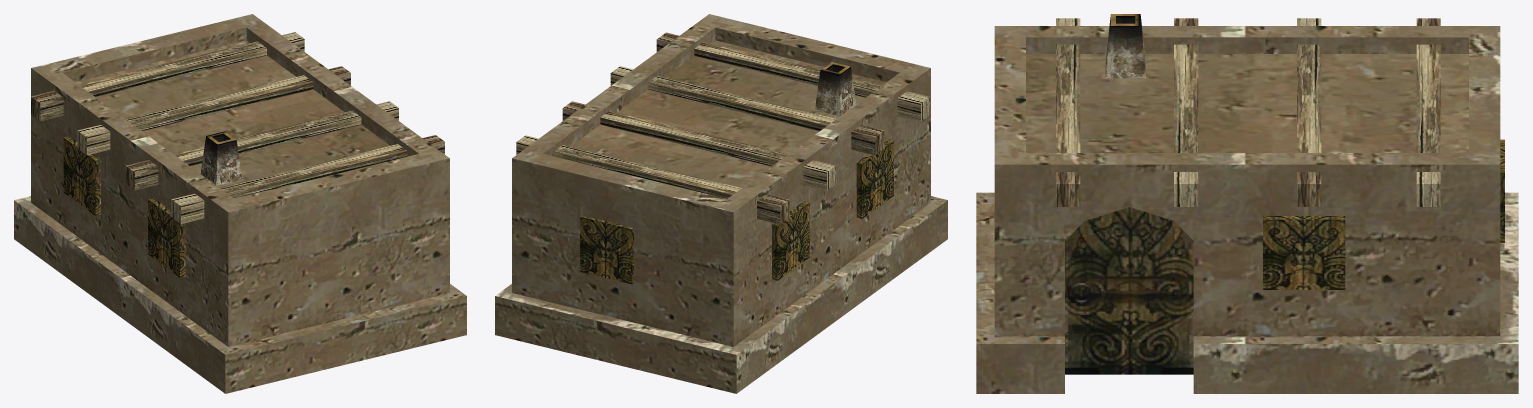
The picture shows the model from 3 angles, left to right: view 1: azimuth 30°, elevation 25°; view 2: azimuth 150°, elevation 25°; view 3: azimuth 270°, elevation 25°; orthographic projection. The views are drawn at different scales.
Parts seen in each view (by area): view 1: House01; view 2: House01; view 3: House01.
Part boxes in pixels (x1,y1,x2,y2): House01: (14, 14, 466, 393); House01: (495, 14, 947, 393); House01: (976, 14, 1518, 393).
Size of the model in its own units: 435 by 315 by 603.
